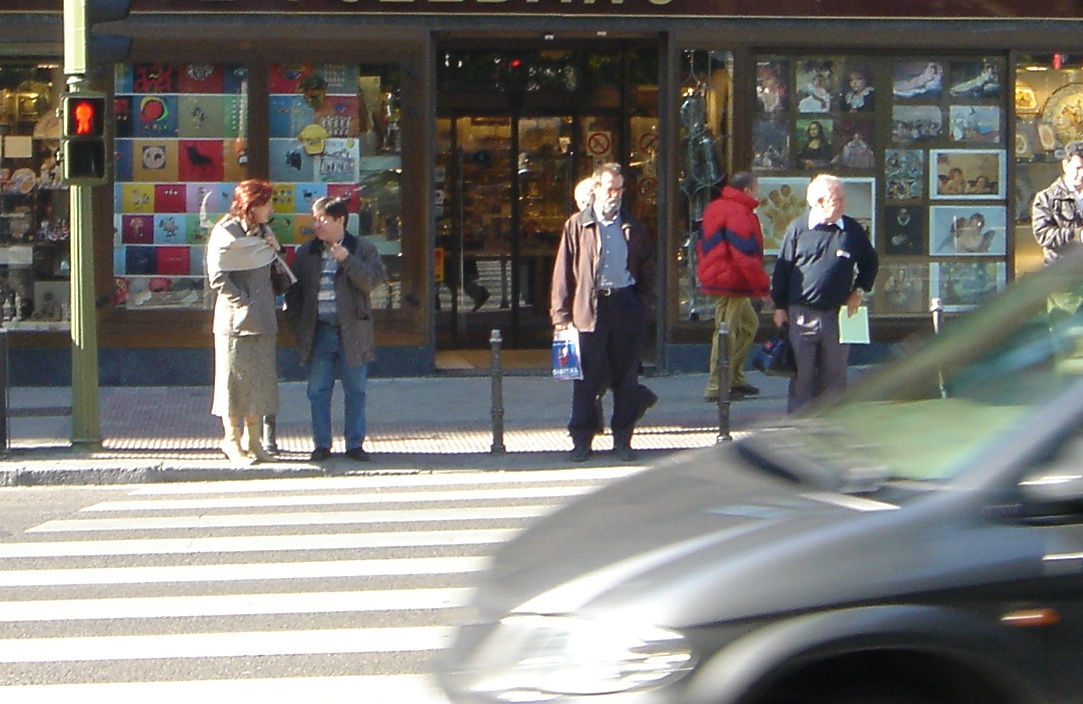person: (553, 164, 655, 462), (283, 194, 383, 464), (203, 174, 287, 470), (779, 169, 872, 426), (696, 167, 768, 400)
